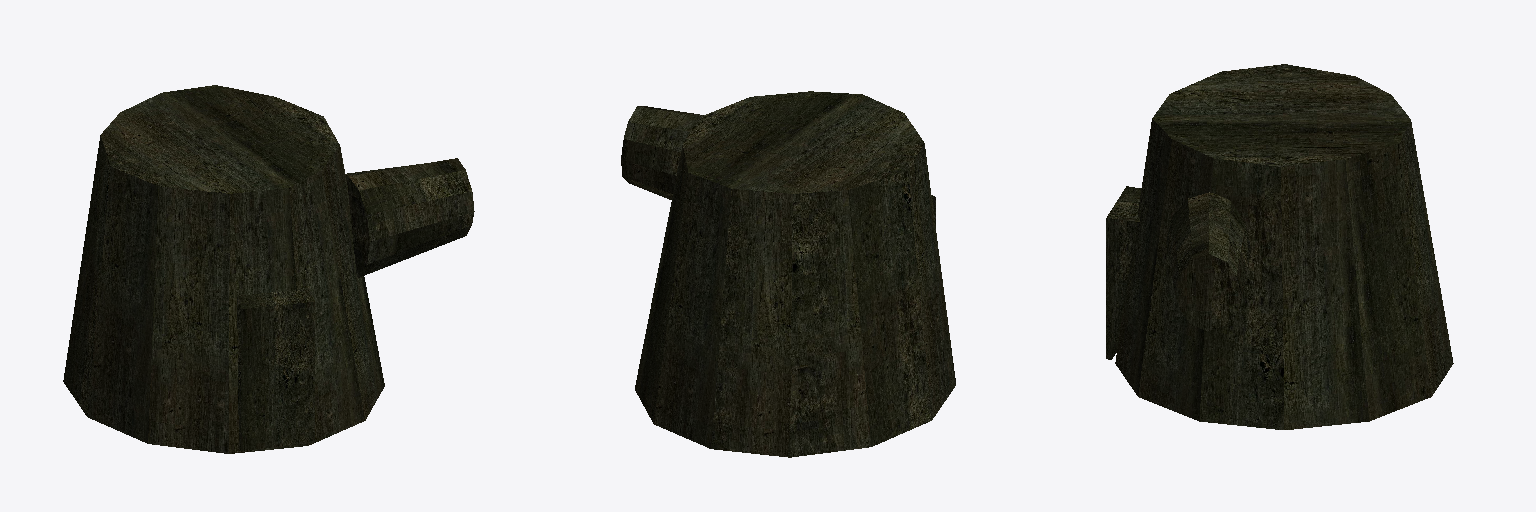
3 views of the same model, side by side, from view 1: azimuth 30°, elevation 25°; view 2: azimuth 150°, elevation 25°; view 3: azimuth 270°, elevation 25° (orthographic).
Visible parts, largest first — view 1: Object.1; view 2: Object.1; view 3: Object.1.
Part boxes in pixels (left/top/right/bottom): Object.1: left=63, top=85, right=474, bottom=453; Object.1: left=621, top=91, right=955, bottom=457; Object.1: left=1106, top=64, right=1453, bottom=429.
Bounding box in the file's own units: 620 × 436 × 560.
Materials: 4 (1 with a texture image).